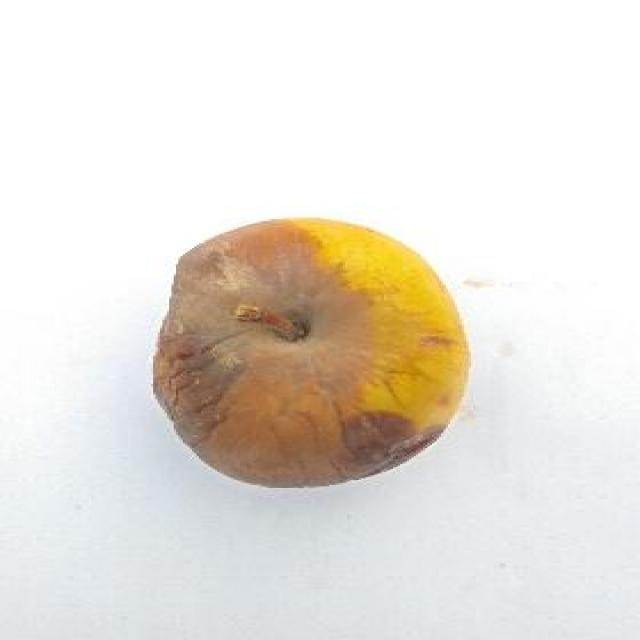Rotten: (148, 212, 468, 491)
